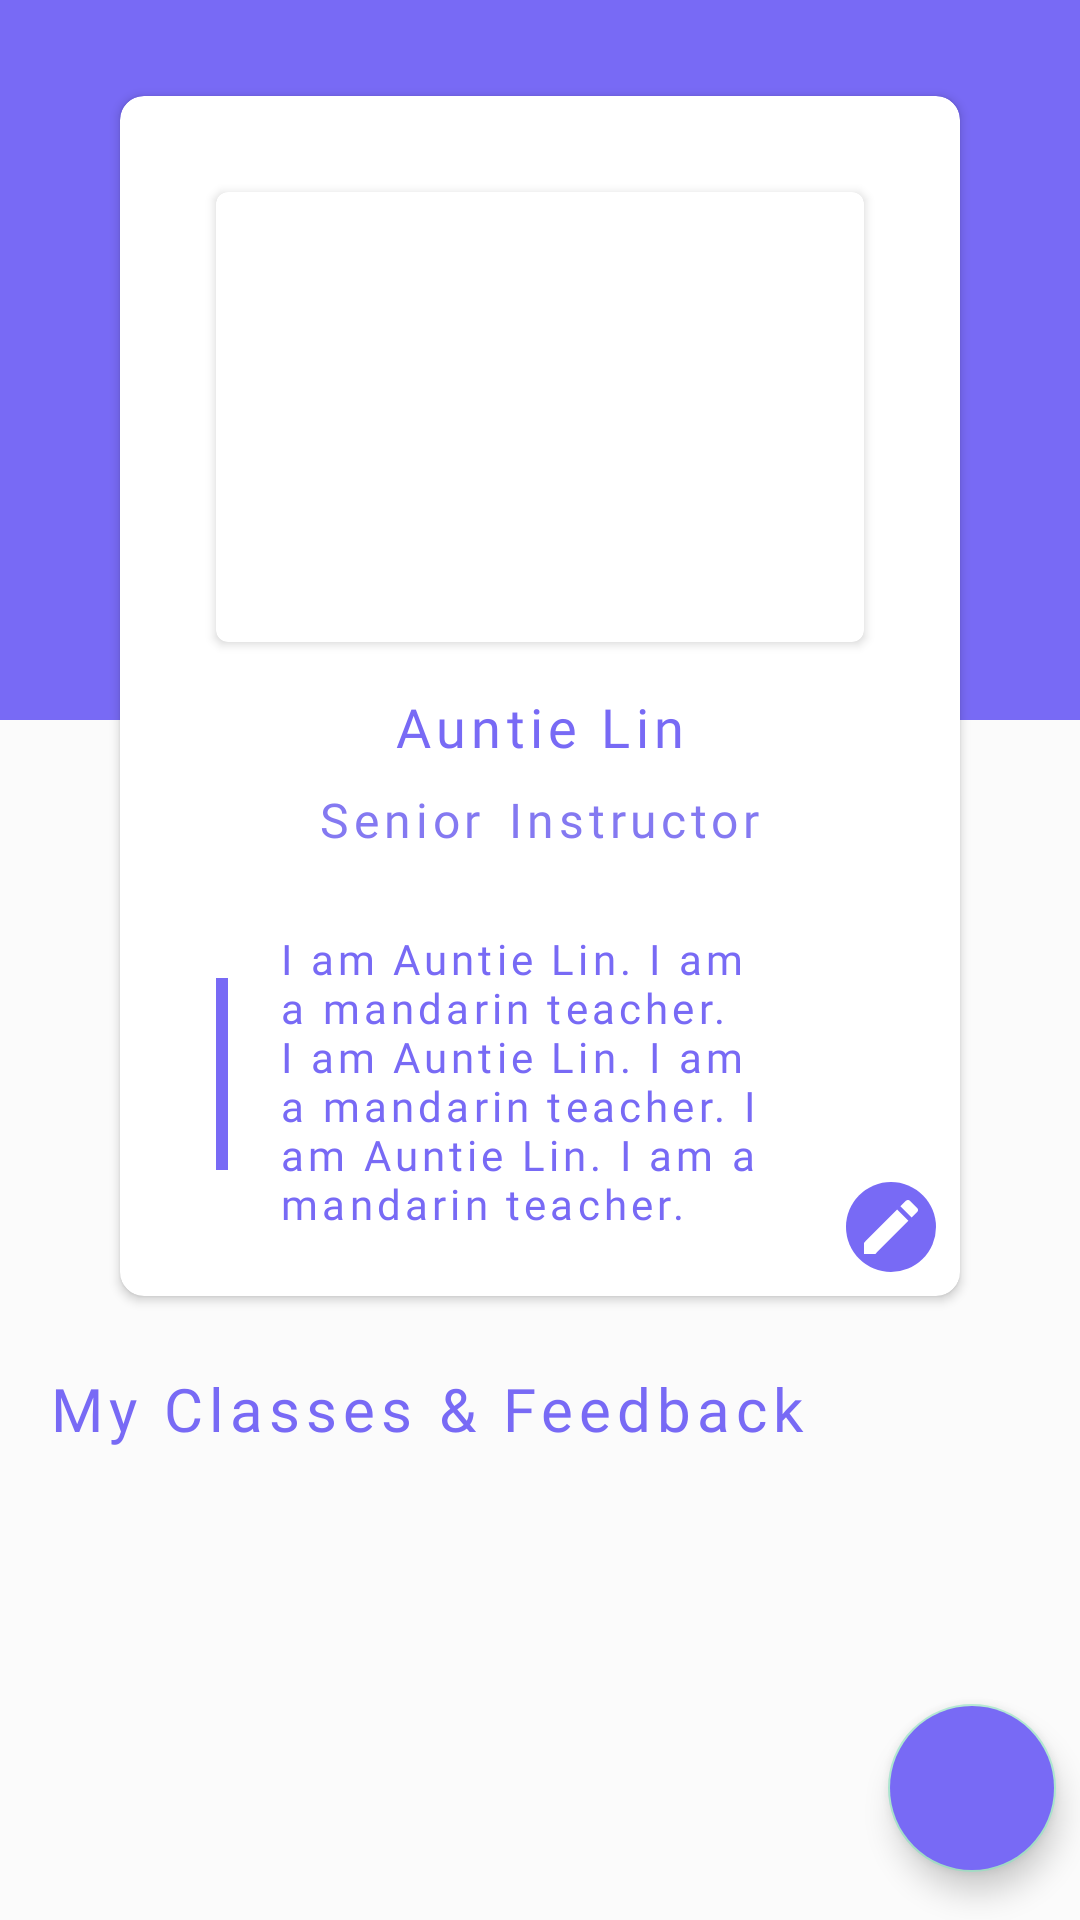

Locate icon controls on the screen. Image size 1080 x 1920, boxes as rect(x1, y1, x2, y2).
edit: rect(846, 1182, 936, 1272)
